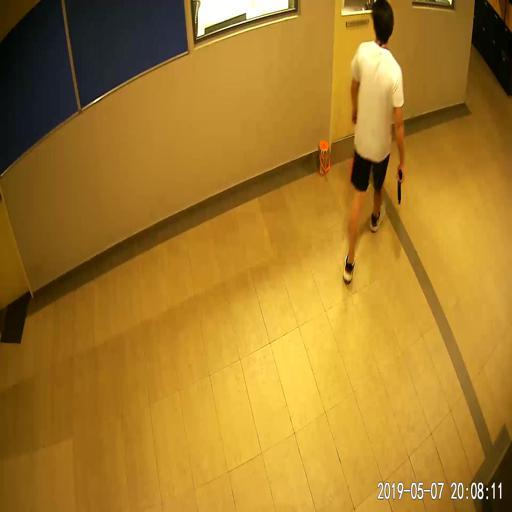Handgun: (393, 159, 404, 204)
